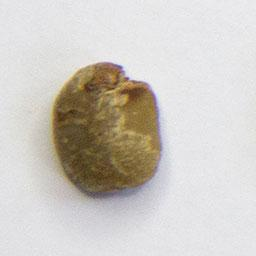defect: (49, 58, 165, 196)
